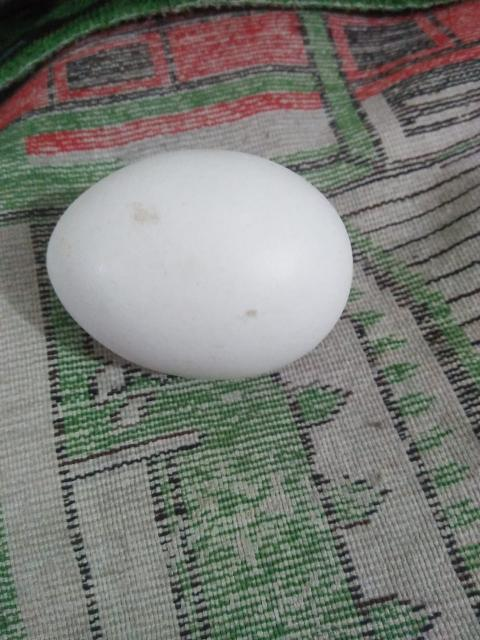Sano: (45, 148, 355, 381)
